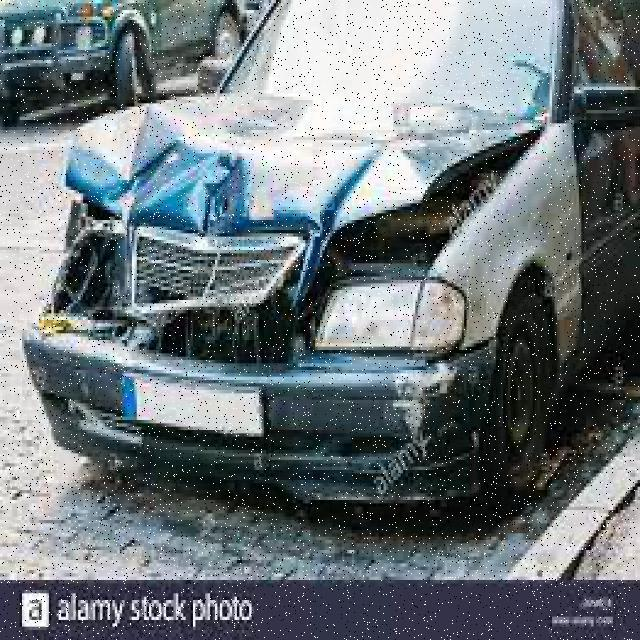bonnet-dent: (70, 80, 514, 240)
front-bumper-dent: (293, 323, 506, 540)
